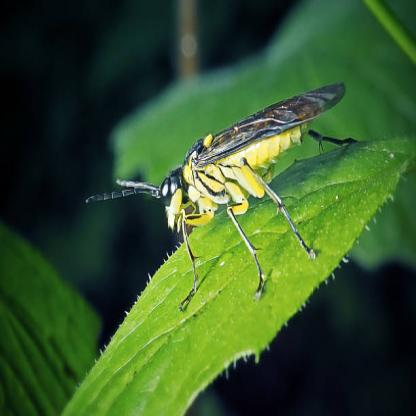sawfly: (88, 82, 368, 317)
